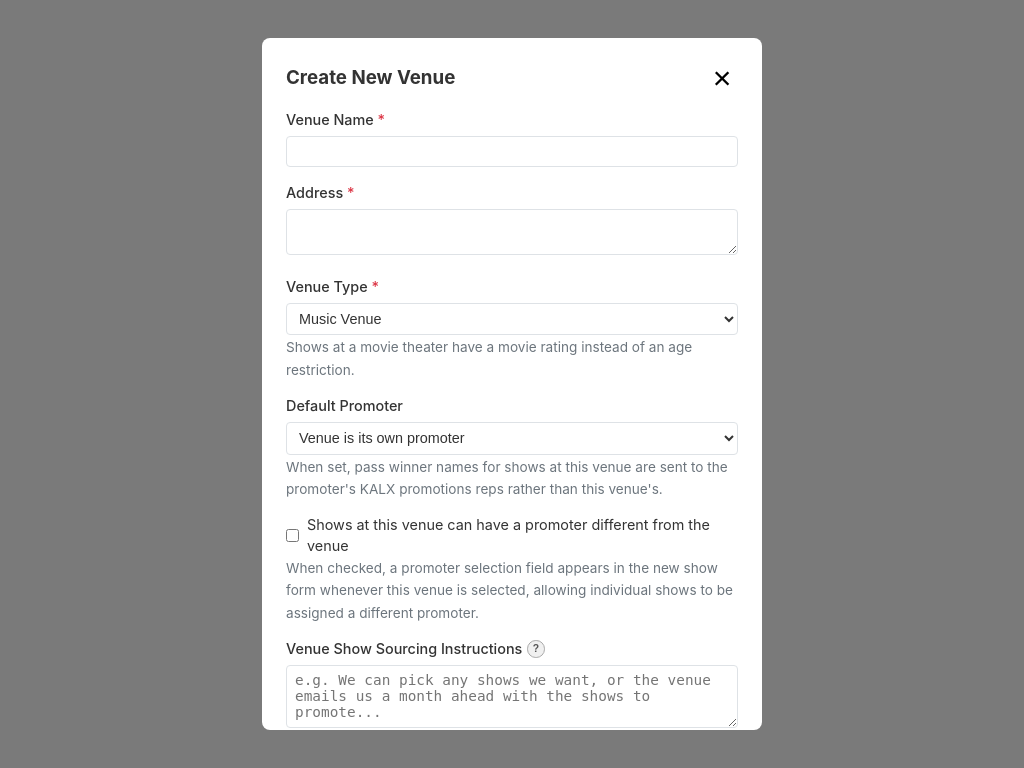
Scenario: VenueForm › Form Validation › should show validation error when address is empty
This screenshot has width=1024, height=768.
In the field labelled "Venue Name *": (512, 152) [286,136,738,167], type "Test Venue"
(page scrolled)
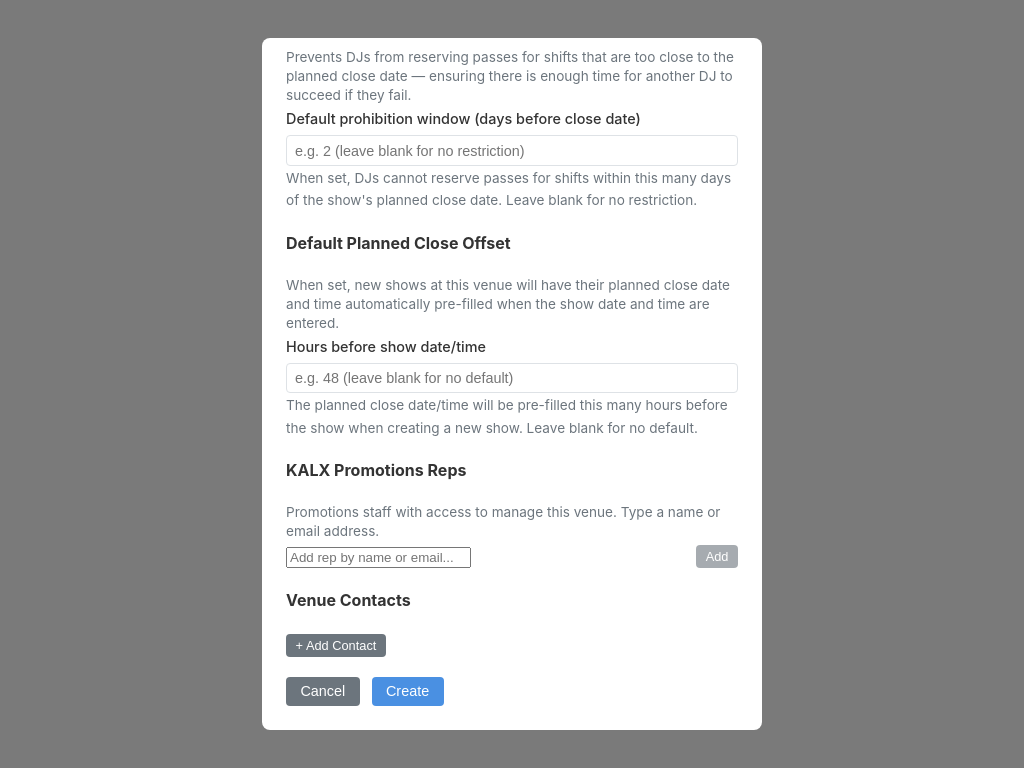
Click the button "Create": (408, 691) [372,677,444,706]
(page scrolled)
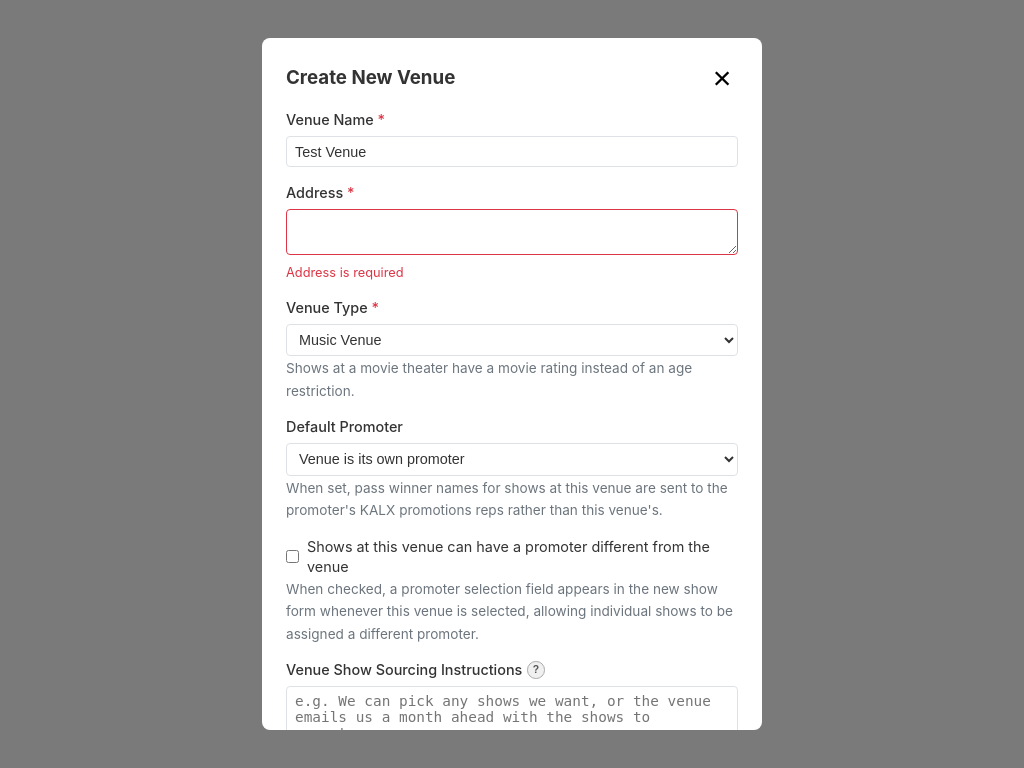
Check: the text "Address is required" is shown, box [286,265,404,280]
